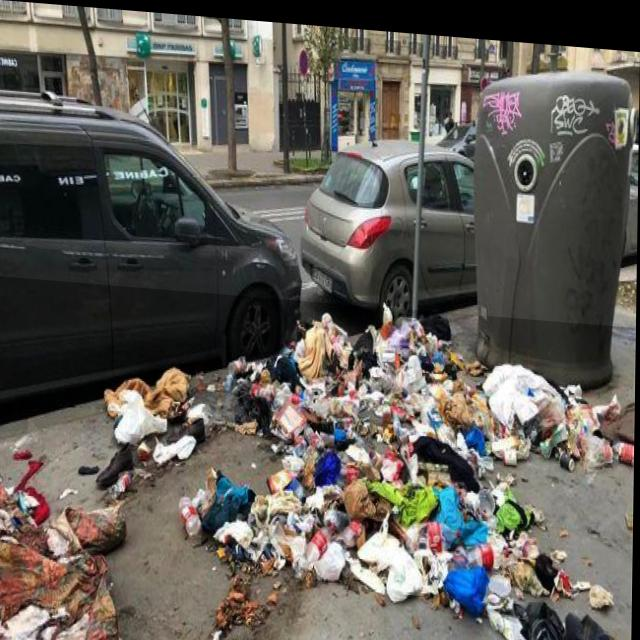garbage: (0, 276, 636, 640)
